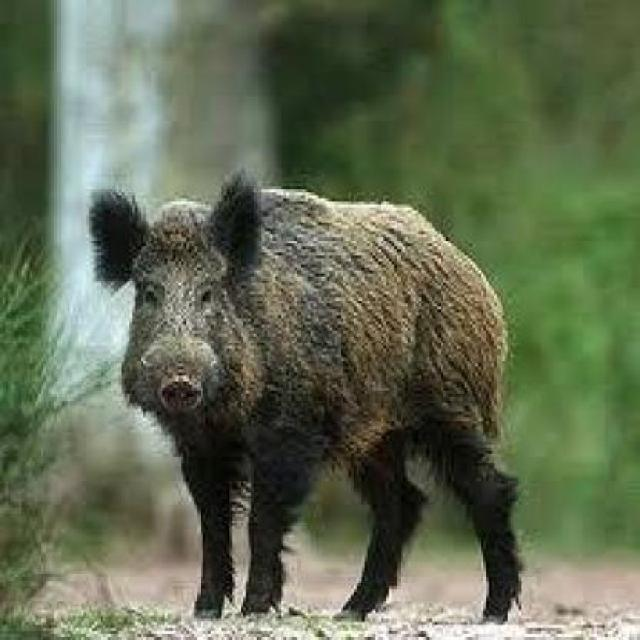wildboar: (81, 165, 522, 626)
